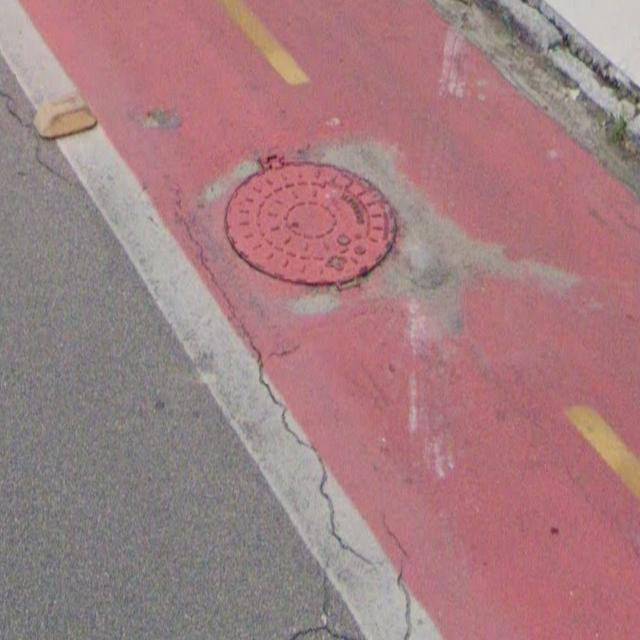Bueiro: (208, 134, 410, 310)
Buraco: (122, 86, 198, 150)
